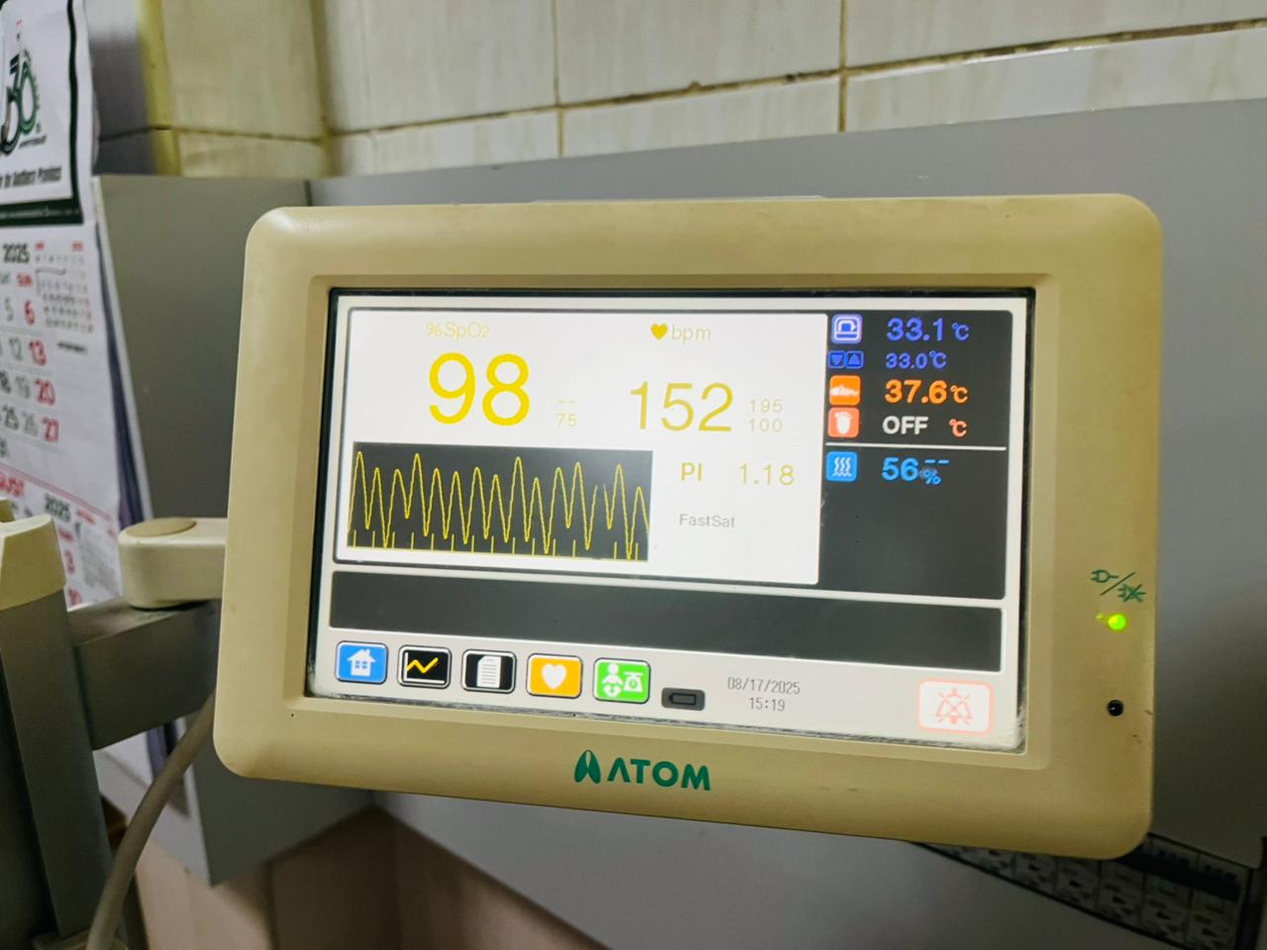air_temp_value: (872, 309, 953, 352)
heart_rate_value: (616, 372, 740, 441)
humidity_value: (872, 450, 923, 490)
skin_temp_value: (874, 373, 950, 414)
spo2_value: (411, 346, 534, 435)
